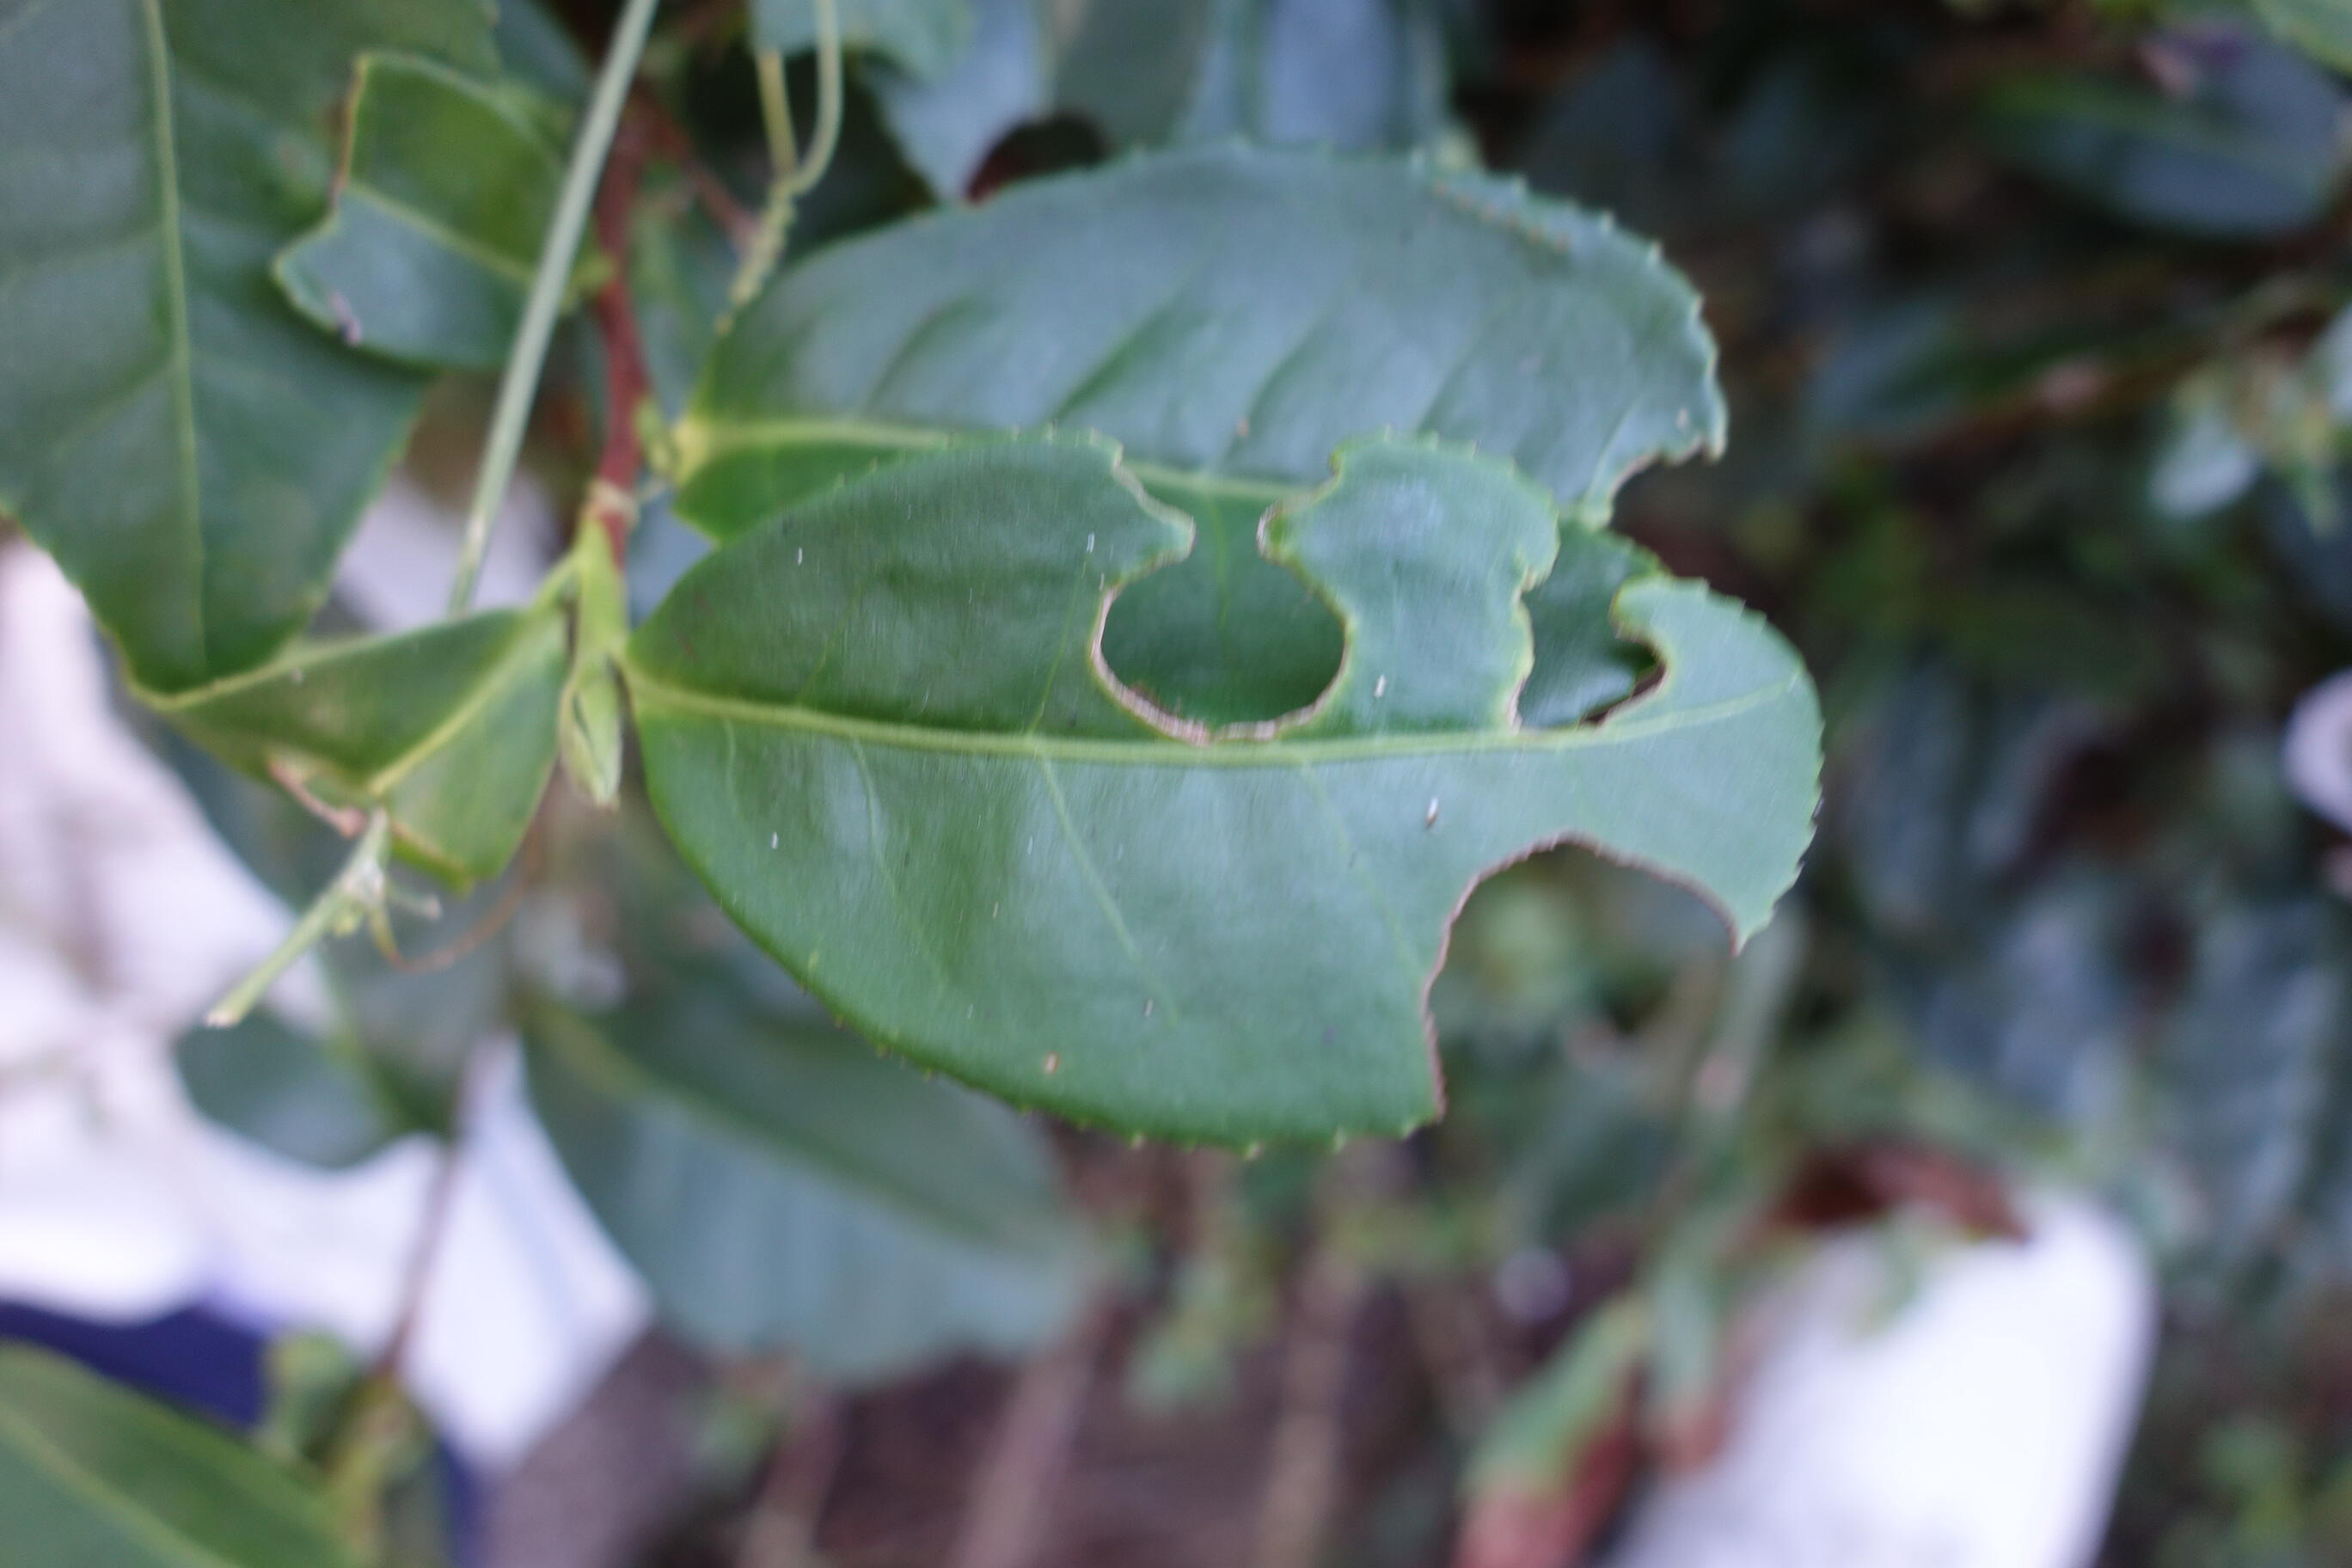chihuo_high: (630, 422, 1823, 1160)
